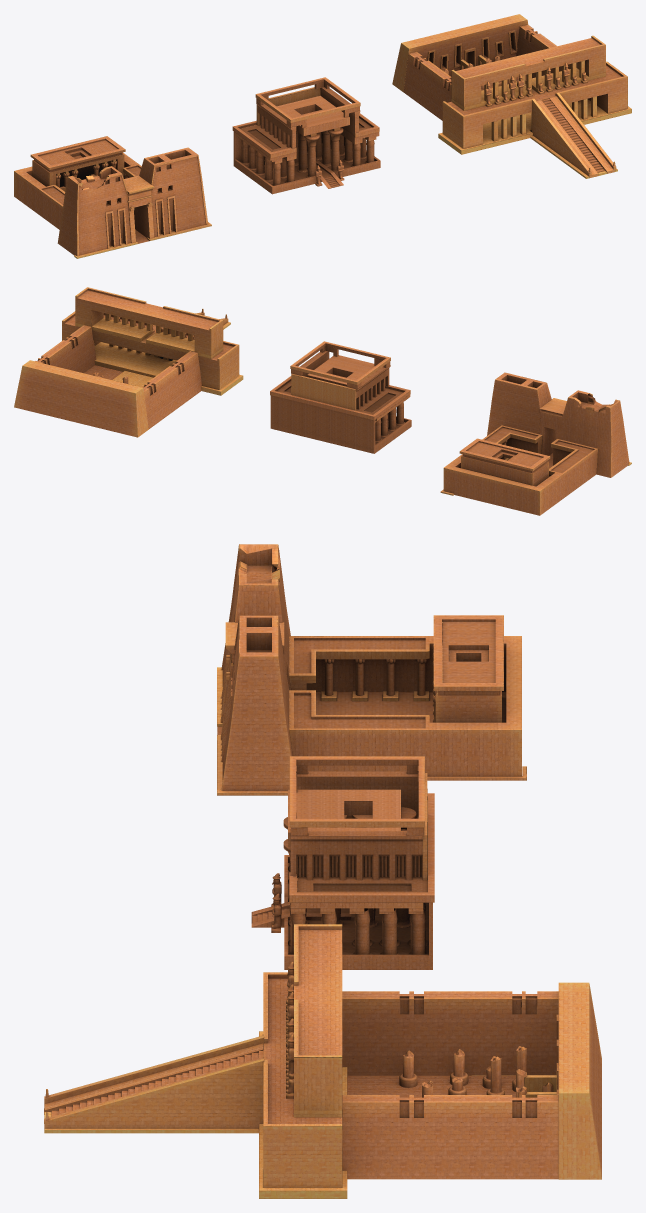
File: templos.glb
The picture shows the model from 3 angles, top to bottom: view 1: azimuth 30°, elevation 25°; view 2: azimuth 150°, elevation 25°; view 3: azimuth 270°, elevation 25°; orthographic projection. The views are drawn at different scales.
Parts seen in each view (by area): view 1: Cube.012, Plane.001, Cube; view 2: Cube.012, Plane.001, Cube; view 3: Cube.012, Plane.001, Cube.
Boxes of the visible parts, <box> form: Cube.012: <box>392,14,631,178</box>; Plane.001: <box>14,136,211,258</box>; Cube: <box>232,77,380,194</box>; Cube.012: <box>14,287,243,437</box>; Plane.001: <box>440,372,631,515</box>; Cube: <box>270,341,411,453</box>; Cube.012: <box>44,924,601,1198</box>; Plane.001: <box>217,544,526,795</box>; Cube: <box>251,756,434,969</box>.
Size of the model in its own units: 4668 by 545 by 2083.
3 materials, 3 textured.
